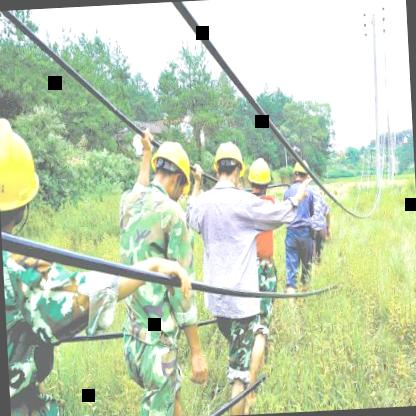helmet: (0, 111, 38, 237), (146, 134, 196, 202), (210, 138, 247, 190), (246, 156, 272, 198), (288, 151, 314, 187)
